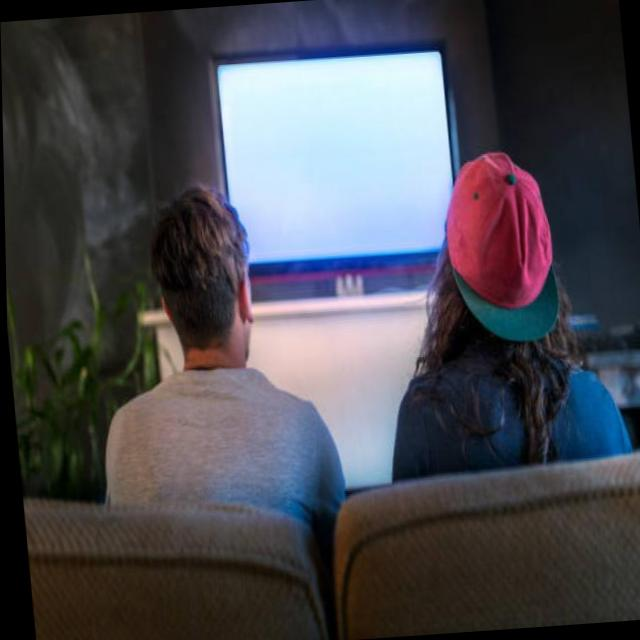no helmet: (417, 126, 576, 394)
